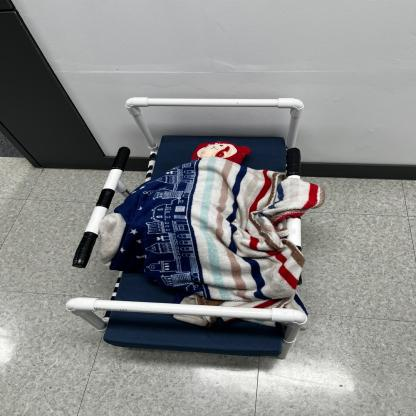yp: (58, 80, 348, 378)
